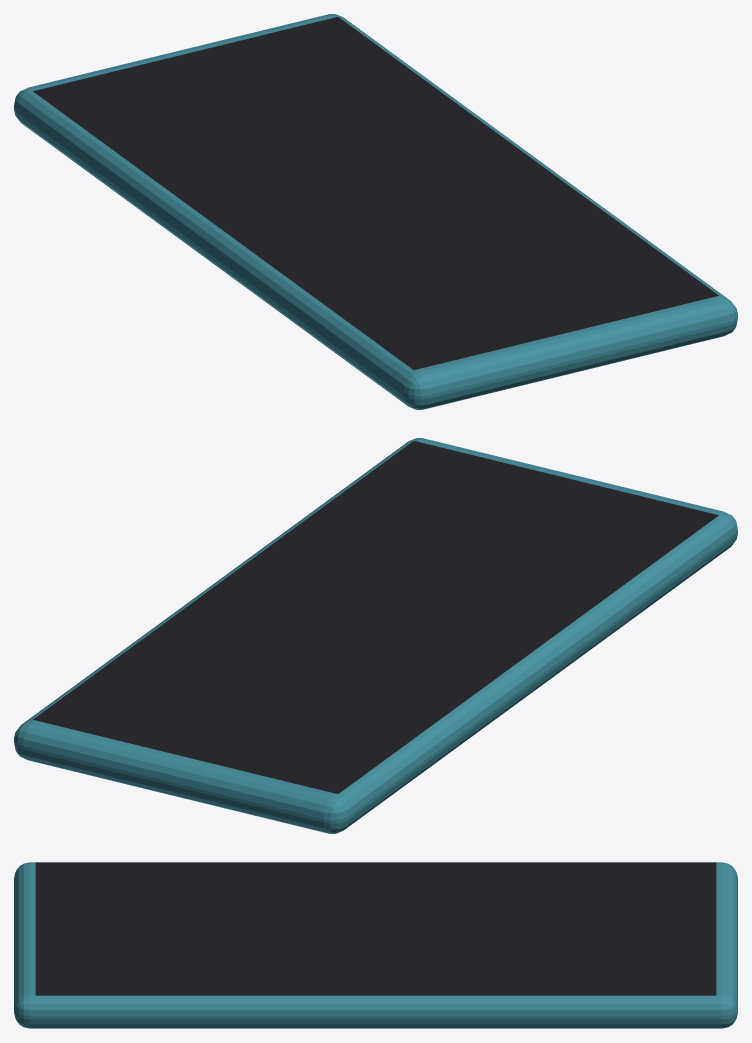
Rendered from Phone_121.glb.
3 renders of one model, top to bottom at view 1: azimuth 30°, elevation 25°; view 2: azimuth 150°, elevation 25°; view 3: azimuth 270°, elevation 25°, orthographic. The views are drawn at different scales.
Visible parts, largest first — view 1: Phone_Screen, Phone_Body; view 2: Phone_Screen, Phone_Body; view 3: Phone_Screen, Phone_Body.
Boxes of the visible parts, left/top/right/bottom form: Phone_Screen: left=33, top=17, right=718, bottom=369; Phone_Body: left=14, top=14, right=737, bottom=409; Phone_Screen: left=33, top=441, right=718, bottom=793; Phone_Body: left=14, top=438, right=737, bottom=833; Phone_Screen: left=35, top=862, right=716, bottom=995; Phone_Body: left=14, top=862, right=737, bottom=1028.
Bounding box in the file's own units: 0.078 × 0.0082 × 0.165.
